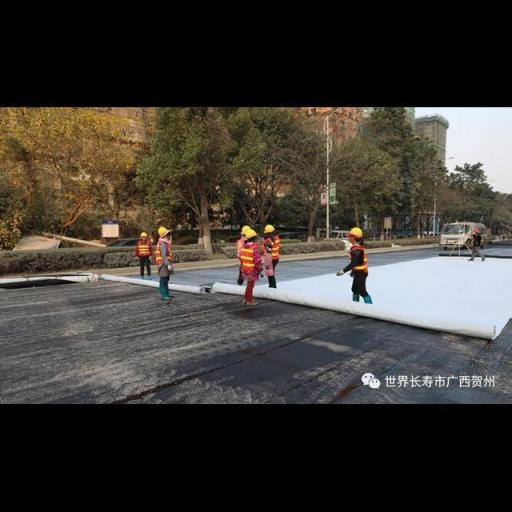Person: (336, 221, 387, 309), (154, 218, 186, 304), (258, 215, 288, 293), (243, 224, 265, 311), (129, 218, 155, 284)
helmet: (156, 228, 168, 236), (137, 230, 149, 238), (261, 224, 273, 232), (351, 228, 363, 236), (240, 225, 252, 233), (245, 230, 257, 237)
vest: (348, 242, 370, 278), (240, 240, 262, 271), (135, 239, 153, 262), (156, 242, 174, 264), (266, 235, 283, 258)
